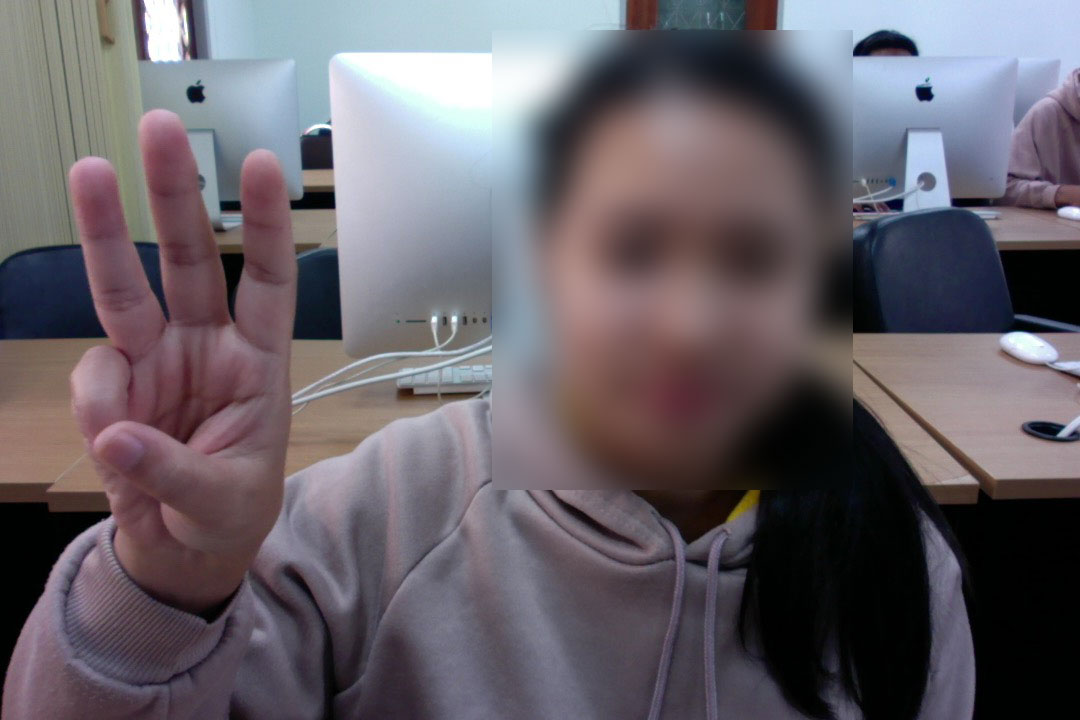wor: (52, 97, 322, 569)
